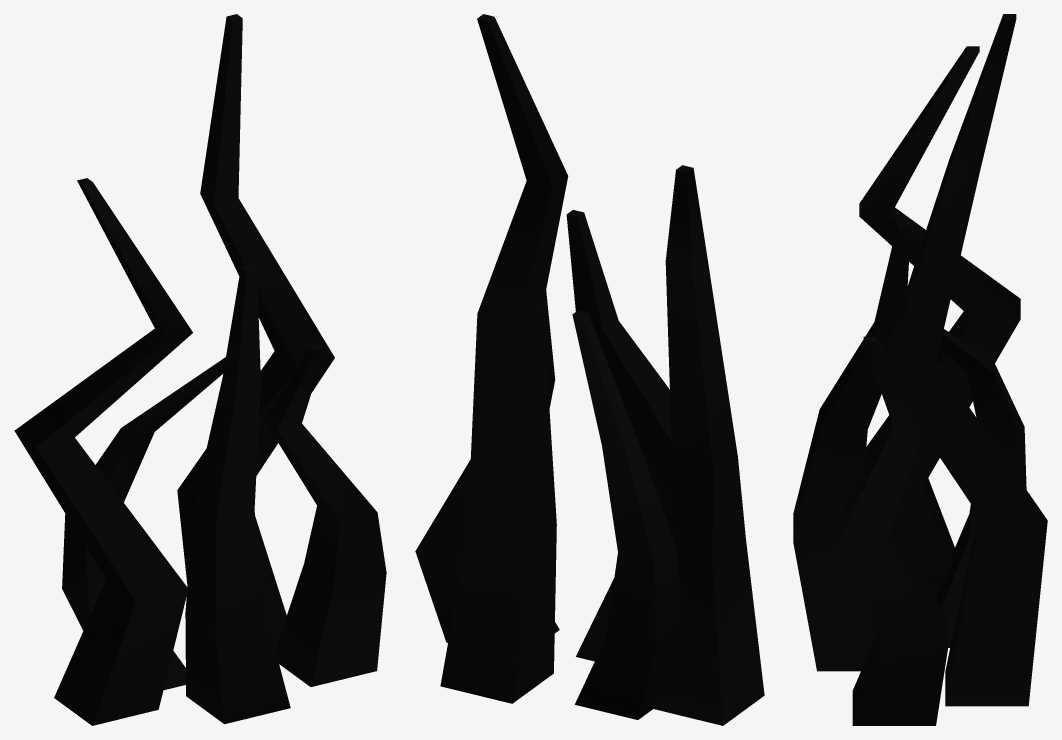
File: Grass_1.fbx
3 views of the same model, side by side, from view 1: azimuth 30°, elevation 25°; view 2: azimuth 150°, elevation 25°; view 3: azimuth 270°, elevation 25° (orthographic). The views are drawn at different scales.
Parts seen in each view (by area): view 1: Grass_1; view 2: Grass_1; view 3: Grass_1.
Part boxes in pixels (x1,y1,x2,y2): Grass_1: (14, 14, 386, 725); Grass_1: (415, 14, 764, 725); Grass_1: (793, 14, 1047, 725).
Size of the model in its own units: 51.64 by 98.8 by 33.92.
